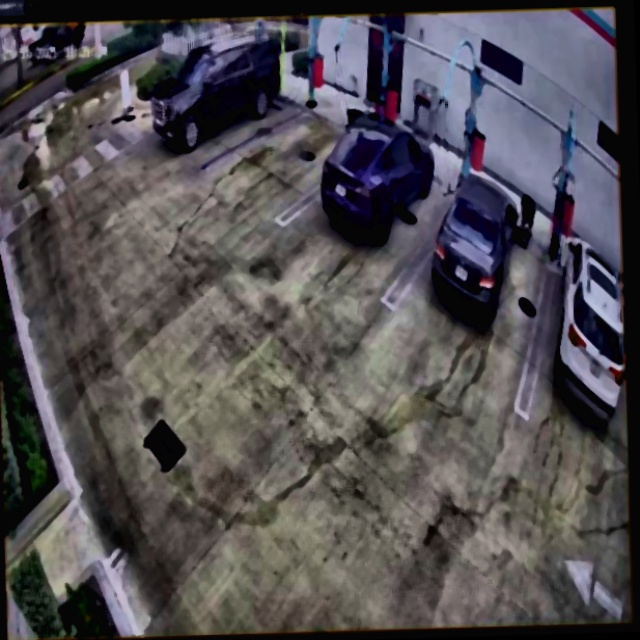Car: (319, 109, 436, 241), (429, 171, 522, 317)
